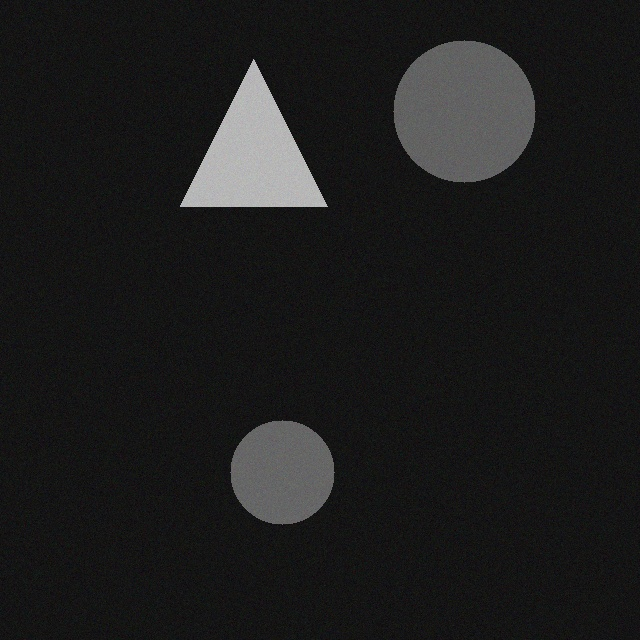circle: (408, 28, 550, 170), (245, 408, 349, 512)
triangle: (195, 47, 342, 194)
